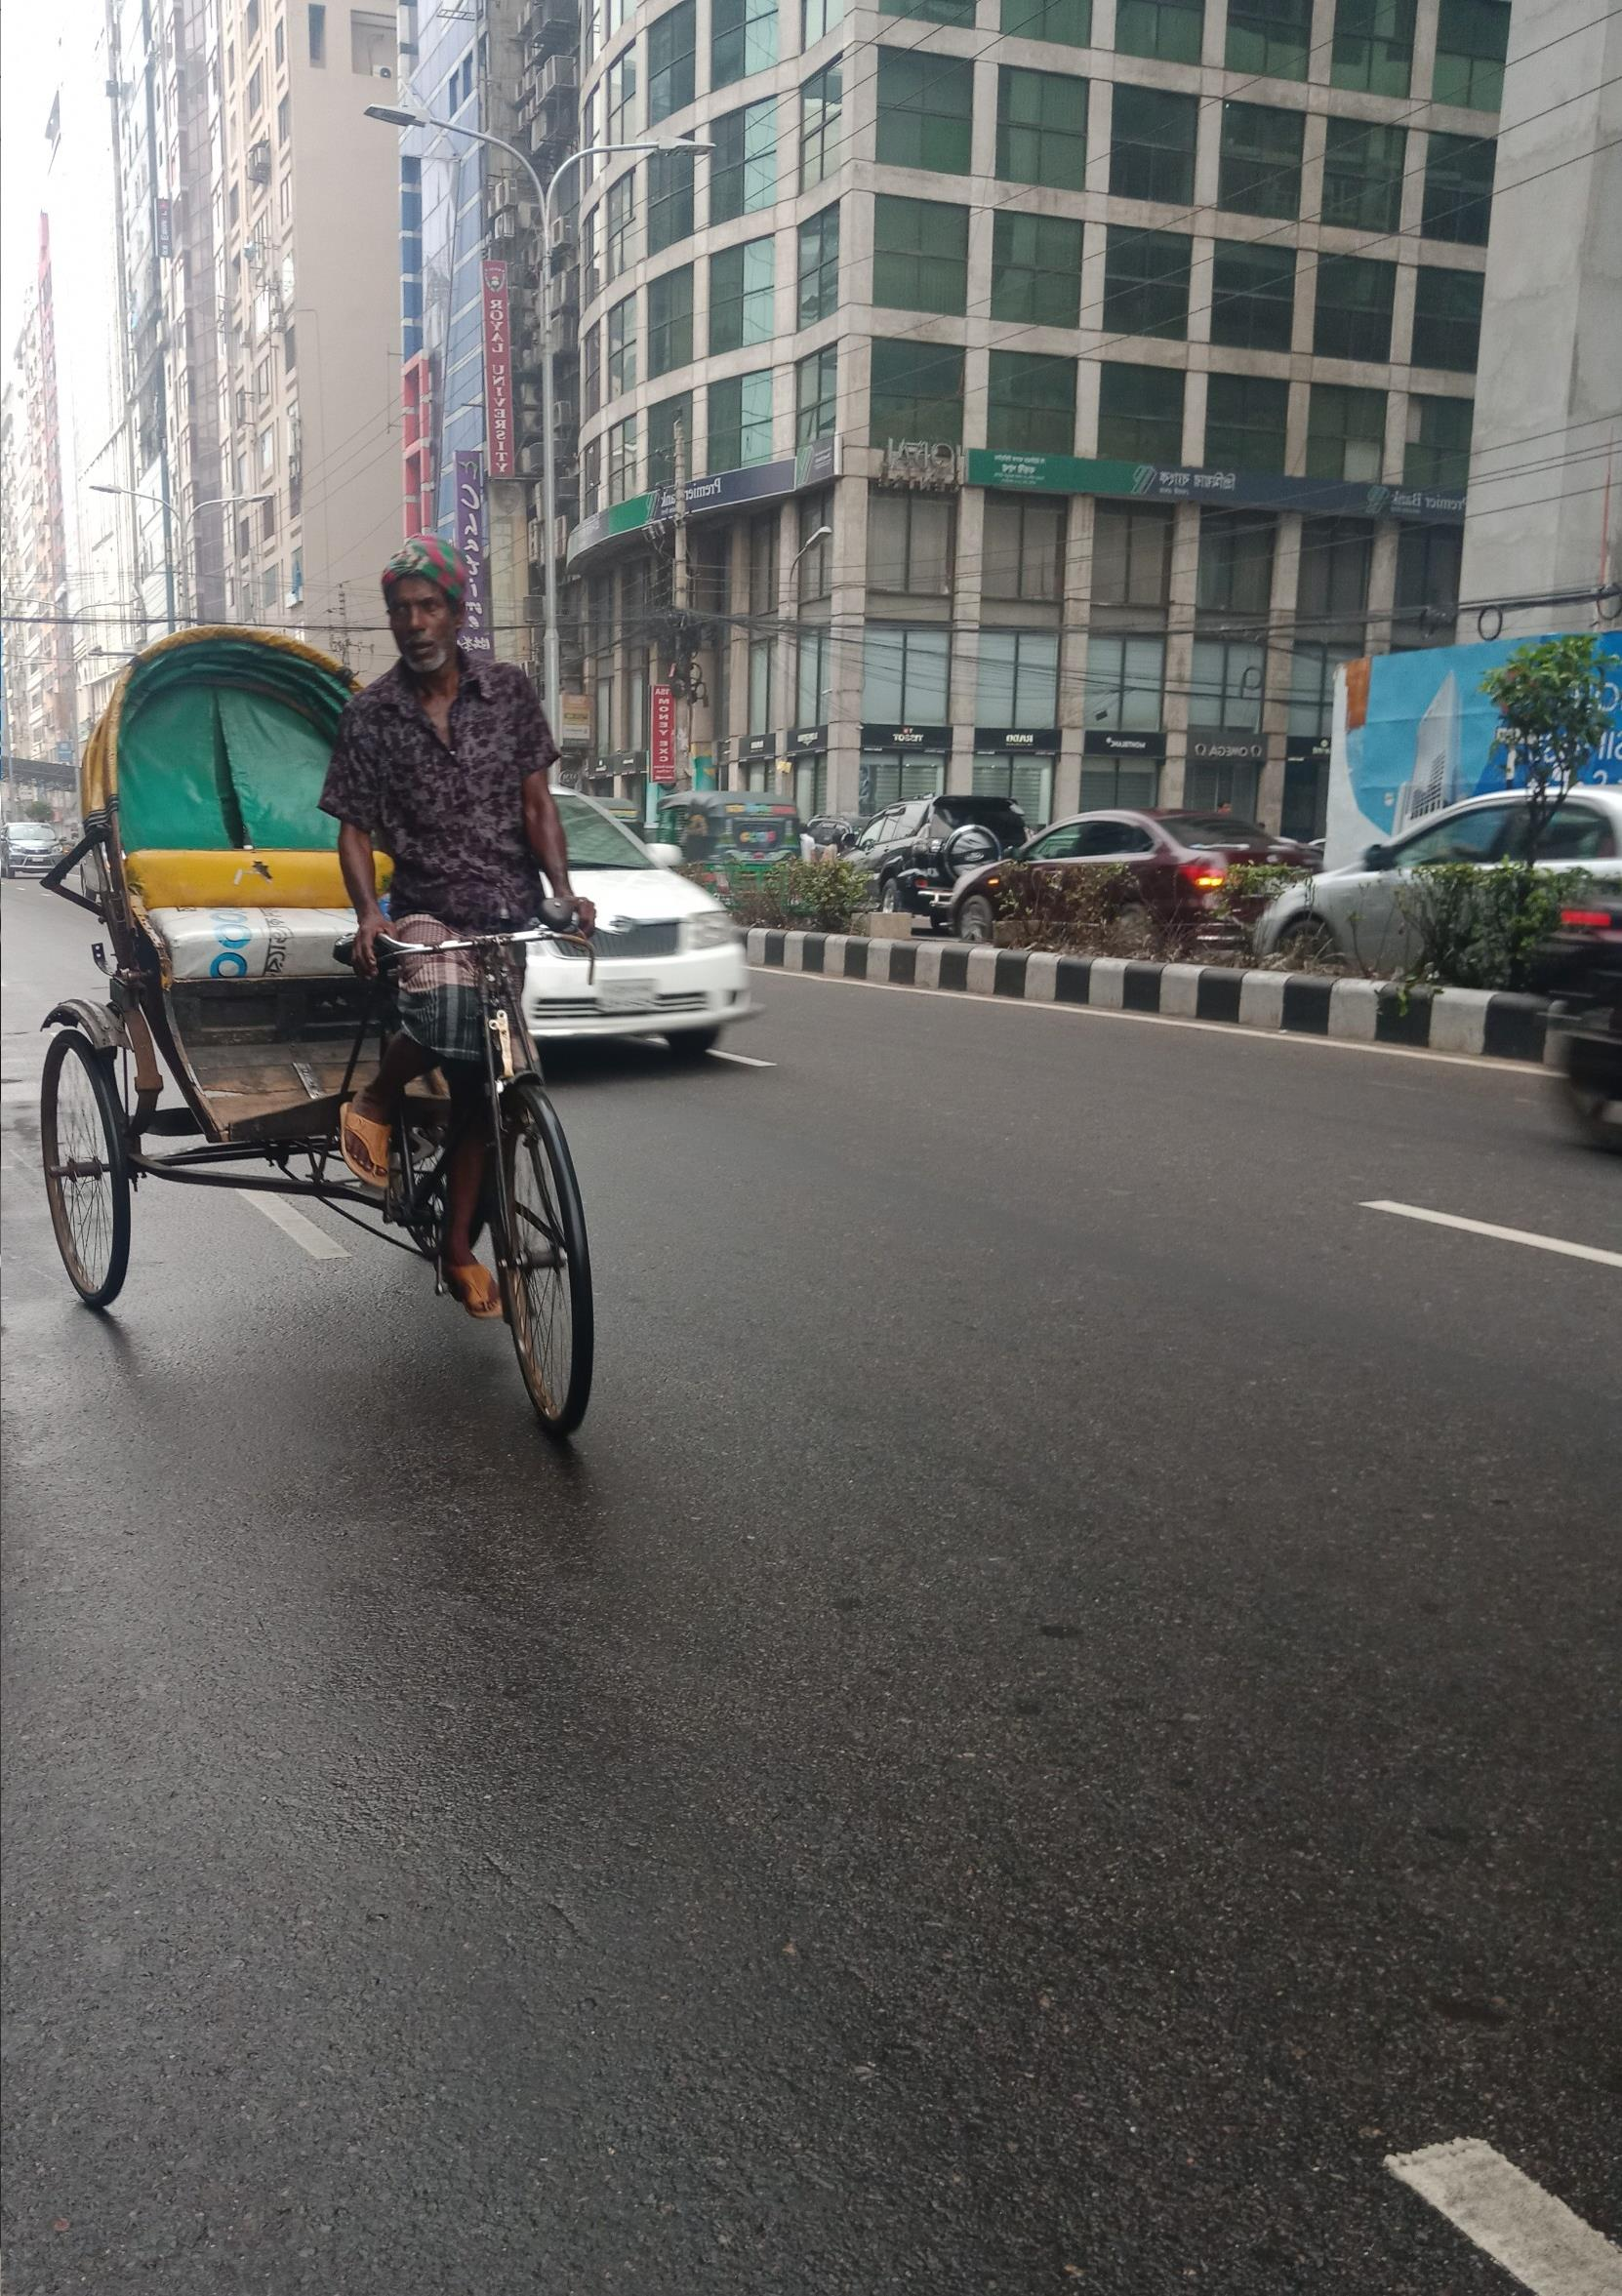Rickshaw: (30, 602, 651, 1431)
